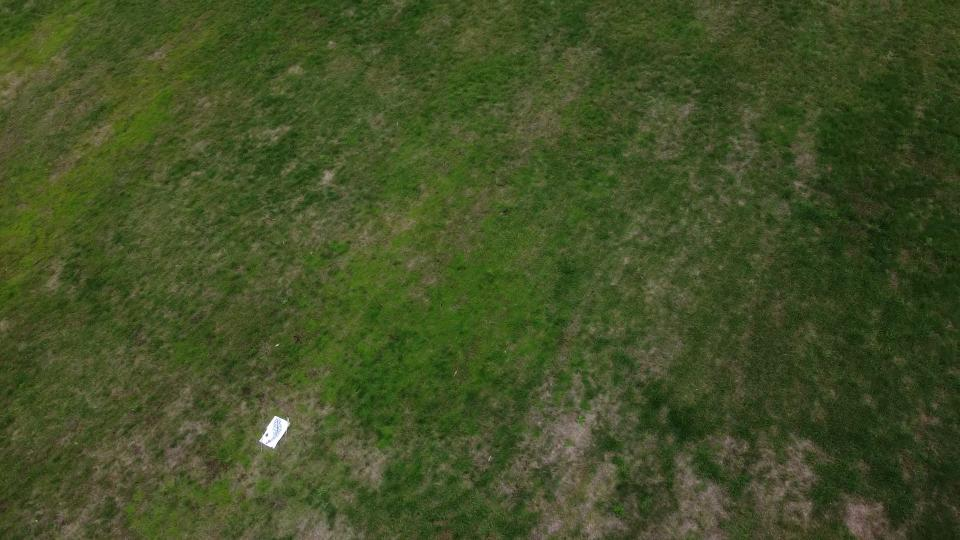zebra_single: (264, 417, 284, 445)
